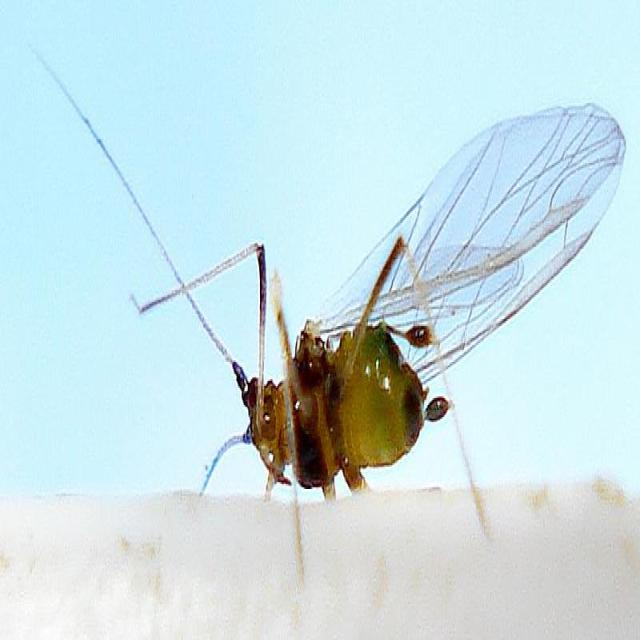Aphids: (39, 35, 630, 576)
